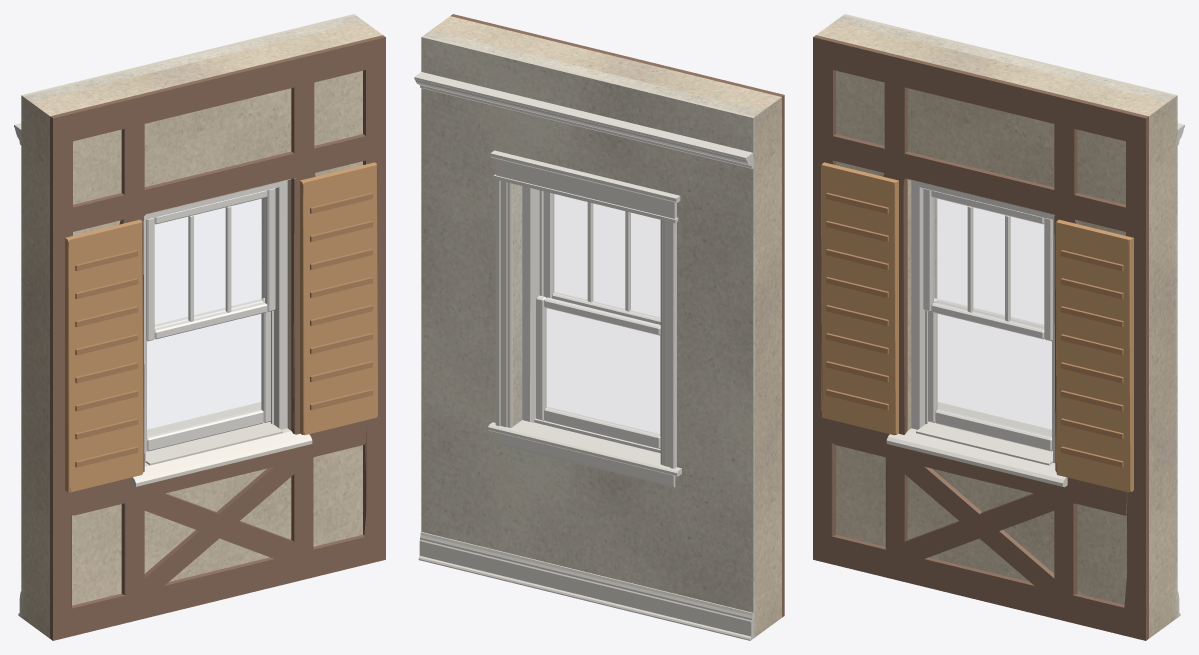
The model's file is wall_timber_window.glb.
3 views of the same model, side by side, from view 1: azimuth 30°, elevation 25°; view 2: azimuth 150°, elevation 25°; view 3: azimuth 330°, elevation 25° (orthographic).
Parts seen in each view (by area): view 1: wall_timber_window_timber, wall_timber_window_render, wall_timber_window_shutter, folha_glass, wall_timber_window_glass, wall_timber_window_shutter_dark, wall_timber_window_sash, wall_timber_window_plaster, wall_timber_window_trim, wall_timber_window_frame, folha_sash, molduras; view 2: wall_timber_window_plaster, molduras, wall_timber_window_render, folha_glass, wall_timber_window_glass, wall_timber_window_frame, folha_sash, wall_timber_window_sash, wall_timber_window_timber; view 3: wall_timber_window_timber, wall_timber_window_render, wall_timber_window_shutter, folha_glass, wall_timber_window_glass, wall_timber_window_shutter_dark, wall_timber_window_sash, wall_timber_window_plaster, wall_timber_window_trim, wall_timber_window_frame, folha_sash, molduras.
Part boxes in pixels (left/top/right/bottom): wall_timber_window_timber: left=50, top=35, right=385, bottom=640; wall_timber_window_render: left=23, top=21, right=382, bottom=638; wall_timber_window_shutter: left=65, top=162, right=377, bottom=492; folha_glass: left=147, top=314, right=261, bottom=436; wall_timber_window_glass: left=155, top=198, right=265, bottom=329; wall_timber_window_shutter_dark: left=75, top=192, right=372, bottom=467; wall_timber_window_sash: left=146, top=188, right=275, bottom=341; wall_timber_window_plaster: left=21, top=14, right=363, bottom=618; wall_timber_window_trim: left=131, top=422, right=312, bottom=487; wall_timber_window_frame: left=143, top=180, right=287, bottom=462; folha_sash: left=146, top=298, right=270, bottom=451; molduras: left=14, top=123, right=262, bottom=617; wall_timber_window_plaster: left=421, top=30, right=762, bottom=638; molduras: left=414, top=72, right=753, bottom=640; wall_timber_window_render: left=431, top=16, right=781, bottom=637; folha_glass: left=546, top=308, right=659, bottom=434; wall_timber_window_glass: left=553, top=194, right=659, bottom=317; wall_timber_window_frame: left=522, top=186, right=660, bottom=453; folha_sash: left=536, top=295, right=660, bottom=448; wall_timber_window_sash: left=543, top=191, right=660, bottom=324; wall_timber_window_timber: left=450, top=14, right=784, bottom=617; wall_timber_window_timber: left=813, top=35, right=1148, bottom=640; wall_timber_window_render: left=816, top=21, right=1175, bottom=638; wall_timber_window_shutter: left=821, top=162, right=1133, bottom=492; folha_glass: left=937, top=314, right=1051, bottom=436; wall_timber_window_glass: left=933, top=198, right=1043, bottom=329; wall_timber_window_shutter_dark: left=826, top=192, right=1123, bottom=467; wall_timber_window_sash: left=923, top=188, right=1052, bottom=341; wall_timber_window_plaster: left=835, top=14, right=1177, bottom=618; wall_timber_window_trim: left=886, top=422, right=1067, bottom=487; wall_timber_window_frame: left=911, top=180, right=1055, bottom=463; folha_sash: left=928, top=298, right=1052, bottom=451; molduras: left=936, top=123, right=1184, bottom=617.
Size of the model in its own units: 2 by 3 by 0.46.
9 materials, 2 textured.
